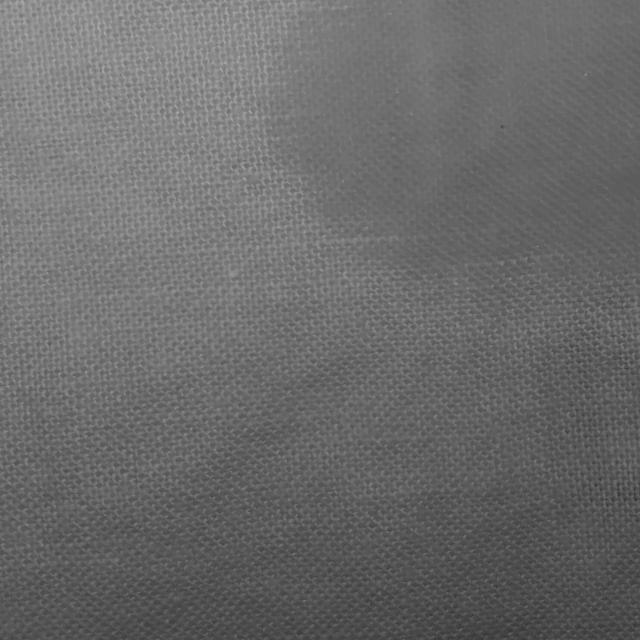Stain: (272, 0, 639, 278)
